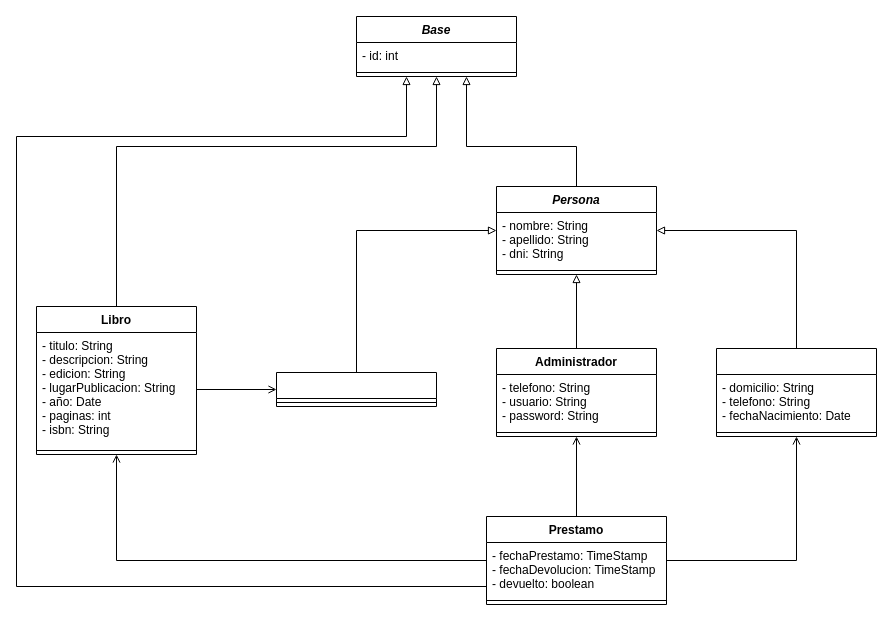
Image size: 893x621. Some labels were removed from this diagram. The box of each missing label's shape, as (x1, y1, x2, y2) in pixels:
Autor: (276, 372, 436, 406)
Cliente: (716, 348, 876, 436)
